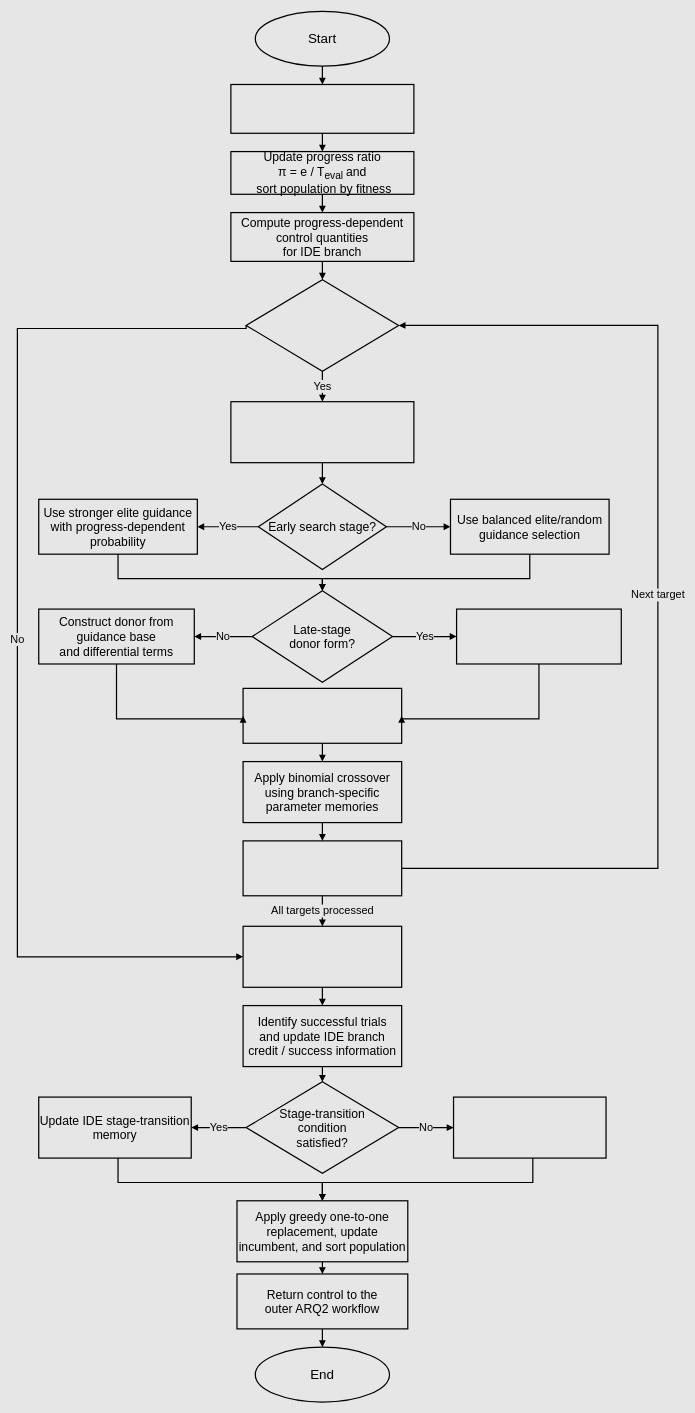
The diagram is 695 pixels wide and 1413 high, and some of its shapes have lost their labels. The box of each missing label's shape, as (x1, y1, x2, y2) in pixels:
Construct donor from current target and differential terms: (456, 608, 622, 664)
Enforce bounds and store trial individual: (242, 840, 402, 896)
Enforce bounds on donor vector: (242, 687, 402, 744)
Evaluate all trial individuals until the evaluation budget is reached: (242, 925, 402, 988)
For each target individual i = 1, ..., N ?: (245, 279, 399, 371)
Keep current IDE stage parameters: (453, 1096, 606, 1158)
Receive IDE branch state (population, fitness, progress, parameter memories): (230, 84, 414, 134)
Sample distinct companion indices and determine candidate guidance pool: (230, 401, 414, 463)
